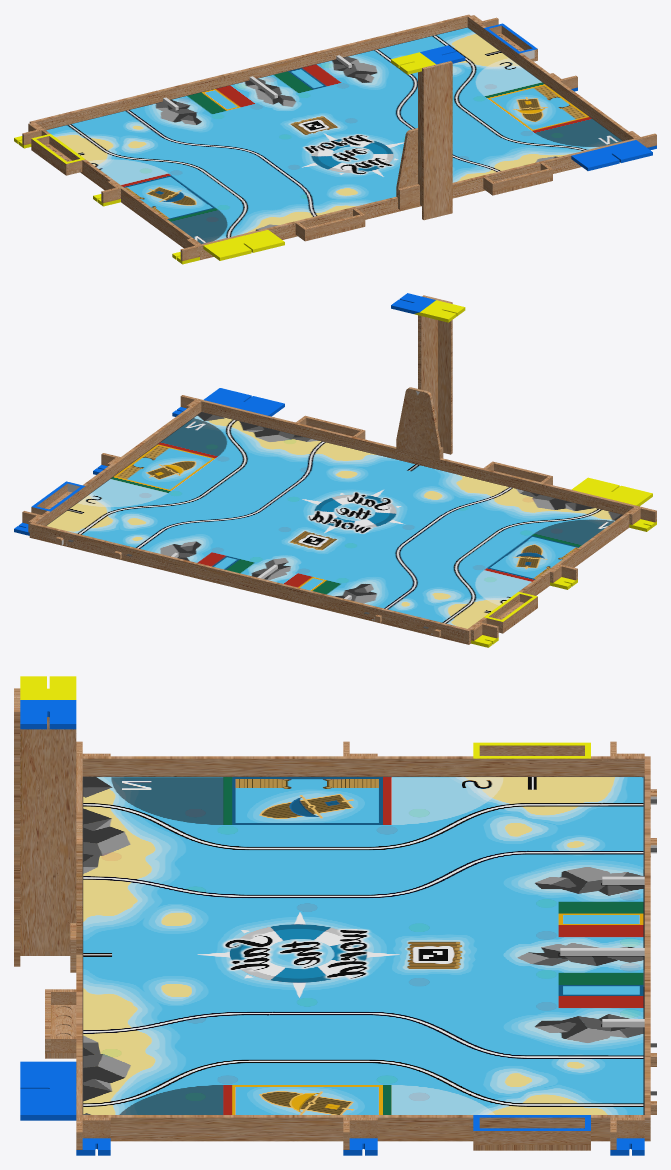
Rendered from terrain2021.dae.
3 views of the same model, one above another, from view 1: azimuth 30°, elevation 25°; view 2: azimuth 150°, elevation 25°; view 3: azimuth 270°, elevation 25° (orthographic). The views are drawn at different scales.
Visible parts, largest first — view 1: Shape_IndexedFaceSet.034, Shape_IndexedFaceSet.014, Shape_IndexedFaceSet.036, Shape_IndexedFaceSet.013, Shape_IndexedFaceSet.033, Shape_IndexedFaceSet.038, Shape_IndexedFaceSet.066, Shape_IndexedFaceSet.006, Shape_IndexedFaceSet.065, Shape_IndexedFaceSet.046, Shape_IndexedFaceSet.052, Shape_IndexedFaceSet.071 (+3 smaller); view 2: Shape_IndexedFaceSet.034, Shape_IndexedFaceSet.014, Shape_IndexedFaceSet.013, Shape_IndexedFaceSet.065, Shape_IndexedFaceSet.033, Shape_IndexedFaceSet.036, Shape_IndexedFaceSet.038, Shape_IndexedFaceSet.037, Shape_IndexedFaceSet.066, Shape_IndexedFaceSet.006, Shape_IndexedFaceSet.071, Shape_IndexedFaceSet.035 (+2 smaller); view 3: Shape_IndexedFaceSet.034, Shape_IndexedFaceSet.037, Shape_IndexedFaceSet.038, Shape_IndexedFaceSet.033, Shape_IndexedFaceSet.066, Shape_IndexedFaceSet.014, Shape_IndexedFaceSet.036, Shape_IndexedFaceSet.035, Shape_IndexedFaceSet.057, Shape_IndexedFaceSet.071, Shape_IndexedFaceSet.041, Shape_IndexedFaceSet.070 (+4 smaller).
Part boxes in pixels (box(x1,y1,x2,y2)): Shape_IndexedFaceSet.034: box(46, 27, 622, 243); Shape_IndexedFaceSet.014: box(33, 15, 467, 129); Shape_IndexedFaceSet.036: box(422, 61, 452, 220); Shape_IndexedFaceSet.013: box(203, 154, 581, 259); Shape_IndexedFaceSet.033: box(466, 14, 639, 141); Shape_IndexedFaceSet.038: box(29, 121, 203, 259); Shape_IndexedFaceSet.066: box(571, 140, 652, 170); Shape_IndexedFaceSet.006: box(203, 230, 284, 260); Shape_IndexedFaceSet.065: box(396, 128, 417, 197); Shape_IndexedFaceSet.046: box(490, 168, 552, 192); Shape_IndexedFaceSet.052: box(303, 214, 365, 237); Shape_IndexedFaceSet.071: box(391, 52, 435, 74); Shape_IndexedFaceSet.034: box(46, 412, 622, 628); Shape_IndexedFaceSet.014: box(33, 523, 466, 643); Shape_IndexedFaceSet.013: box(201, 401, 633, 514); Shape_IndexedFaceSet.065: box(396, 387, 441, 459); Shape_IndexedFaceSet.033: box(29, 399, 202, 538); Shape_IndexedFaceSet.036: box(422, 295, 452, 454); Shape_IndexedFaceSet.038: box(466, 505, 638, 644); Shape_IndexedFaceSet.037: box(418, 315, 437, 428); Shape_IndexedFaceSet.066: box(203, 388, 284, 416); Shape_IndexedFaceSet.006: box(571, 477, 652, 506); Shape_IndexedFaceSet.071: box(414, 300, 465, 322); Shape_IndexedFaceSet.035: box(391, 293, 435, 313); Shape_IndexedFaceSet.034: box(82, 776, 644, 1114); Shape_IndexedFaceSet.037: box(20, 717, 76, 955); Shape_IndexedFaceSet.038: box(76, 756, 650, 776); Shape_IndexedFaceSet.033: box(76, 1115, 650, 1141); Shape_IndexedFaceSet.066: box(20, 1061, 76, 1120); Shape_IndexedFaceSet.014: box(644, 758, 650, 1114); Shape_IndexedFaceSet.036: box(14, 688, 20, 966); Shape_IndexedFaceSet.035: box(20, 700, 76, 729); Shape_IndexedFaceSet.057: box(473, 1131, 590, 1144); Shape_IndexedFaceSet.071: box(20, 676, 76, 699); Shape_IndexedFaceSet.041: box(479, 745, 584, 755); Shape_IndexedFaceSet.070: box(473, 742, 590, 758).
Bounding box in the file's own units: 3.29 × 2.29 × 1.02.
5 materials, 2 textured.
